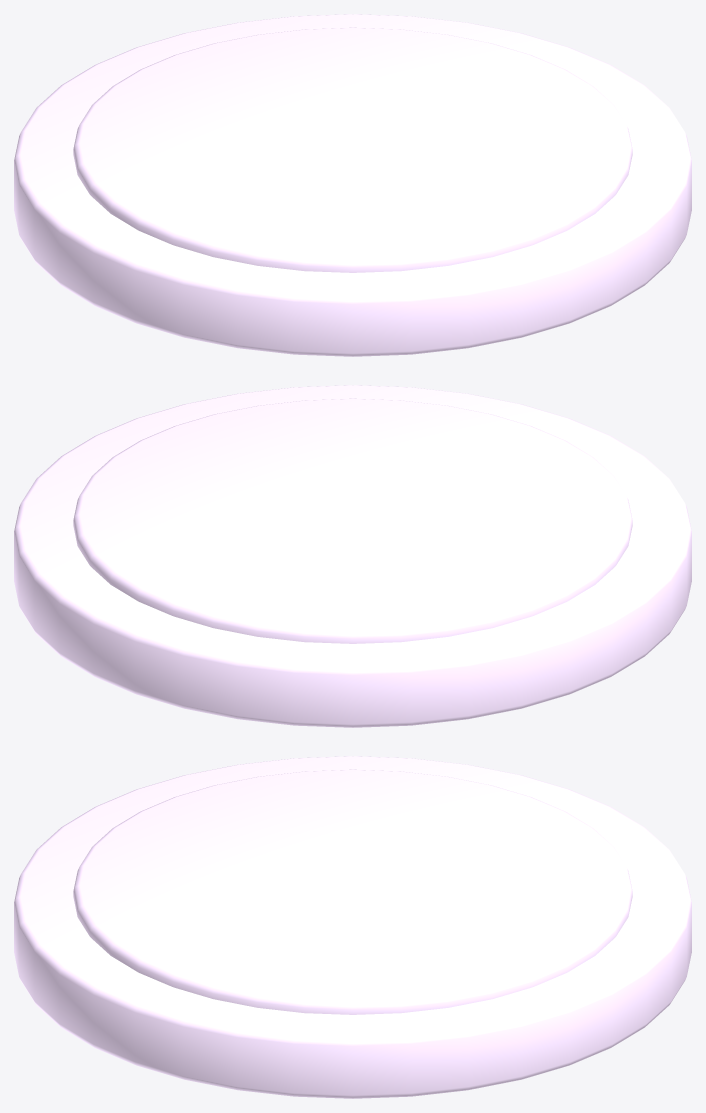
Rendered from Idol_Sound_Disc.glb.
The picture shows the model from 3 angles, top to bottom: view 1: azimuth 30°, elevation 25°; view 2: azimuth 150°, elevation 25°; view 3: azimuth 270°, elevation 25°; orthographic projection.
Visible parts, largest first — view 1: Idol_Sound_Disc; view 2: Idol_Sound_Disc; view 3: Idol_Sound_Disc.
Part boxes in pixels (bbox=[...]): Idol_Sound_Disc: bbox=[14, 14, 691, 356]; Idol_Sound_Disc: bbox=[14, 385, 691, 727]; Idol_Sound_Disc: bbox=[14, 756, 691, 1098].
Bounding box in the file's own units: 0.8 × 0.105 × 0.8.
